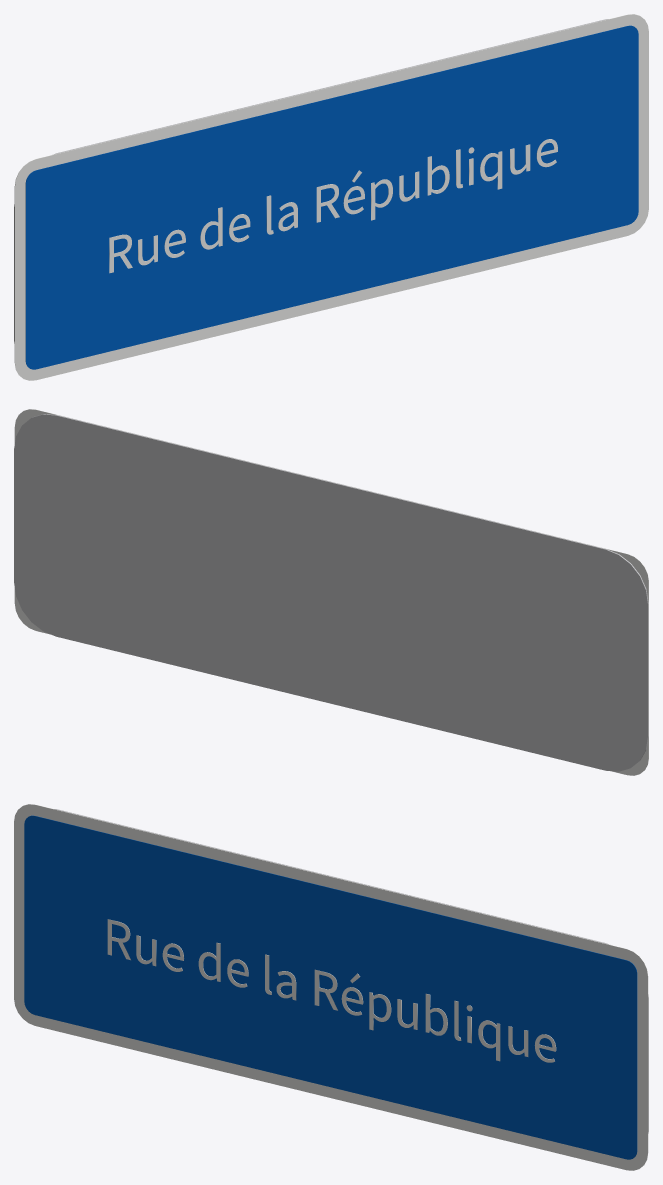
3 views of the same model, one above another, from view 1: azimuth 30°, elevation 25°; view 2: azimuth 150°, elevation 25°; view 3: azimuth 330°, elevation 25° (orthographic).
Visible parts, largest first — view 1: E60_fond01, E60_cadre00, E60_txt02, E60_dos; view 2: E60_dos, E60_cadre00; view 3: E60_fond01, E60_cadre00, E60_txt02, E60_dos.
Boxes of the visible parts, <box> form: E60_fond01: <box>25,25,638,369</box>; E60_cadre00: <box>14,14,648,380</box>; E60_txt02: <box>109,139,557,273</box>; E60_dos: <box>14,19,608,343</box>; E60_dos: <box>14,414,648,771</box>; E60_cadre00: <box>14,409,648,775</box>; E60_fond01: <box>24,815,637,1159</box>; E60_cadre00: <box>14,804,648,1170</box>; E60_txt02: <box>107,919,556,1062</box>; E60_dos: <box>54,809,648,1133</box>.
Bounding box in the file's own units: 0.6 × 0.2 × 0.0025.
